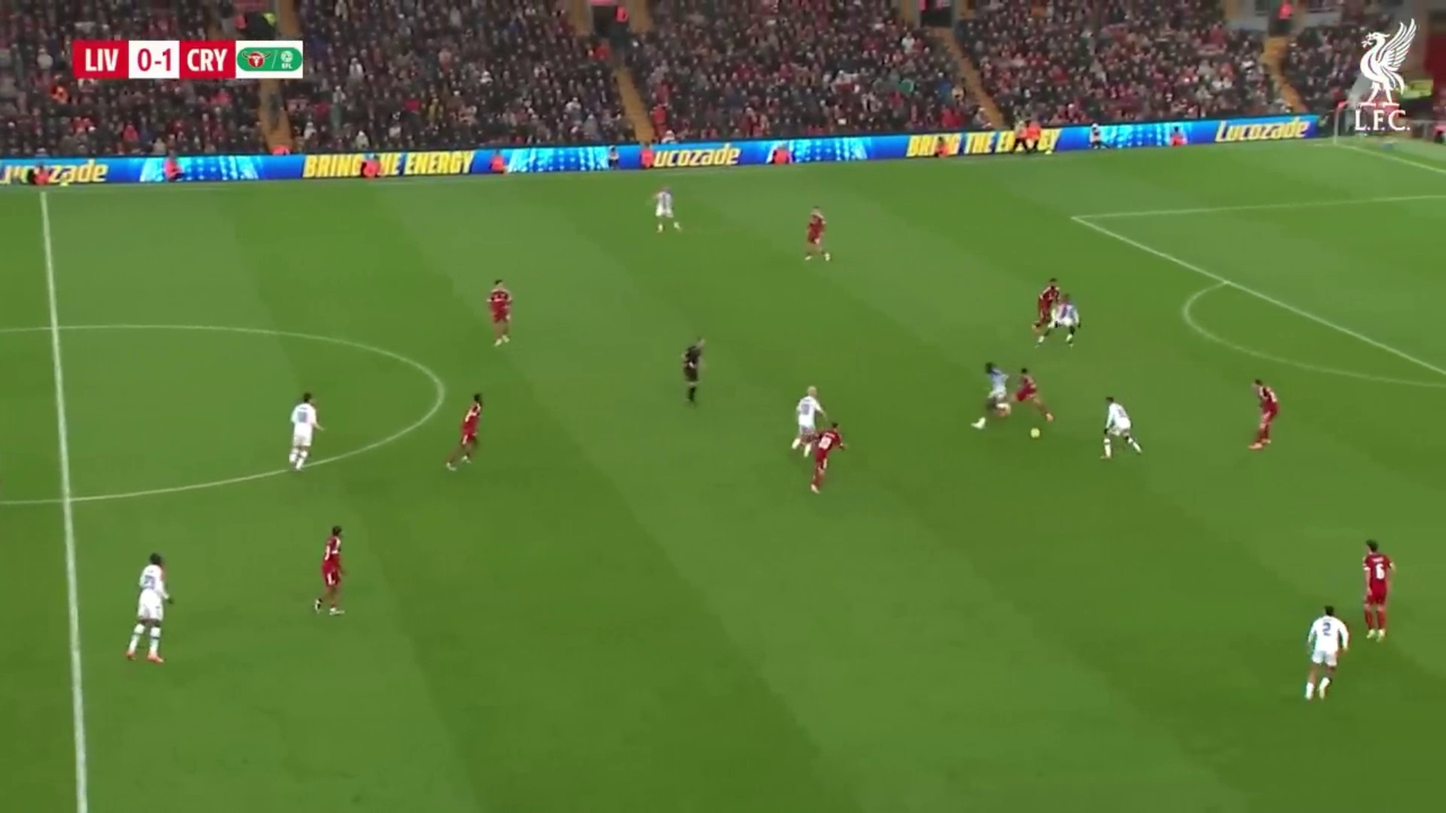player: (124, 551, 171, 664), (792, 384, 834, 490), (1304, 605, 1349, 702), (794, 427, 844, 493), (1362, 539, 1392, 644), (444, 395, 484, 471), (314, 526, 347, 617), (1012, 371, 1055, 439), (1102, 396, 1144, 460), (288, 392, 319, 473), (1034, 280, 1078, 337), (974, 363, 1013, 427), (1248, 378, 1281, 452), (807, 425, 844, 491), (792, 385, 825, 454), (1009, 370, 1048, 419), (486, 280, 512, 348), (802, 208, 833, 265), (1035, 280, 1068, 332), (681, 338, 703, 408), (983, 364, 1012, 415), (652, 187, 677, 235)
